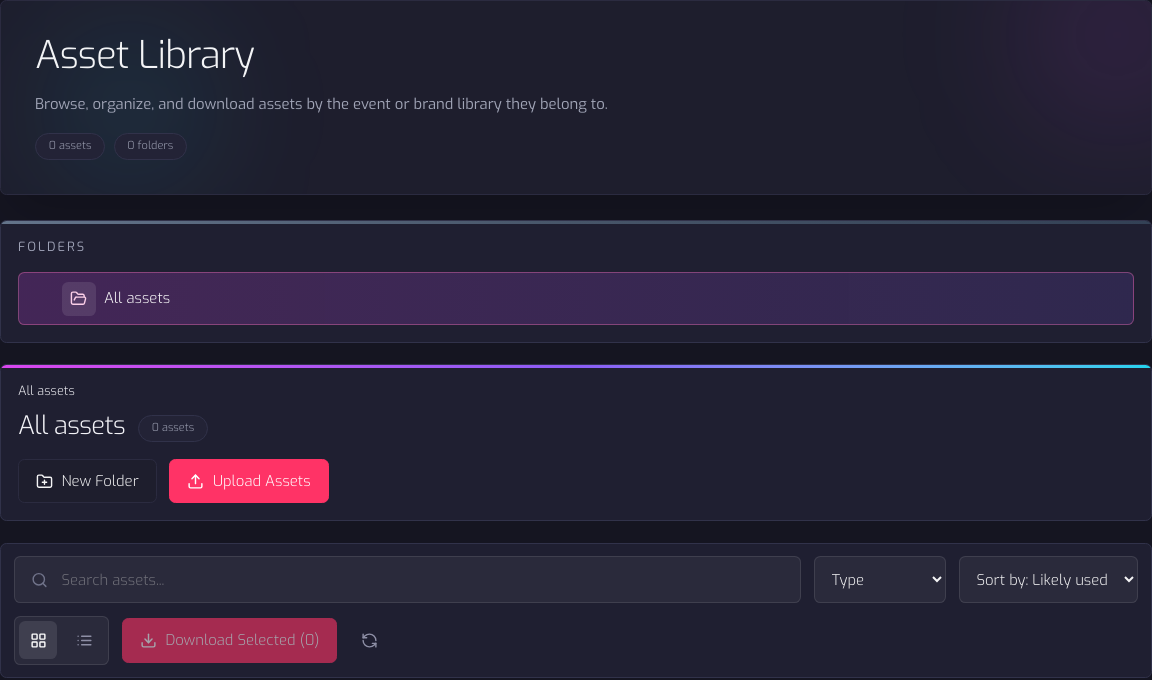
Test case: AssetLibraryView › creates folders from the asset explorer
Click the button "New Folder" at [87, 481], box [18, 459, 157, 504]
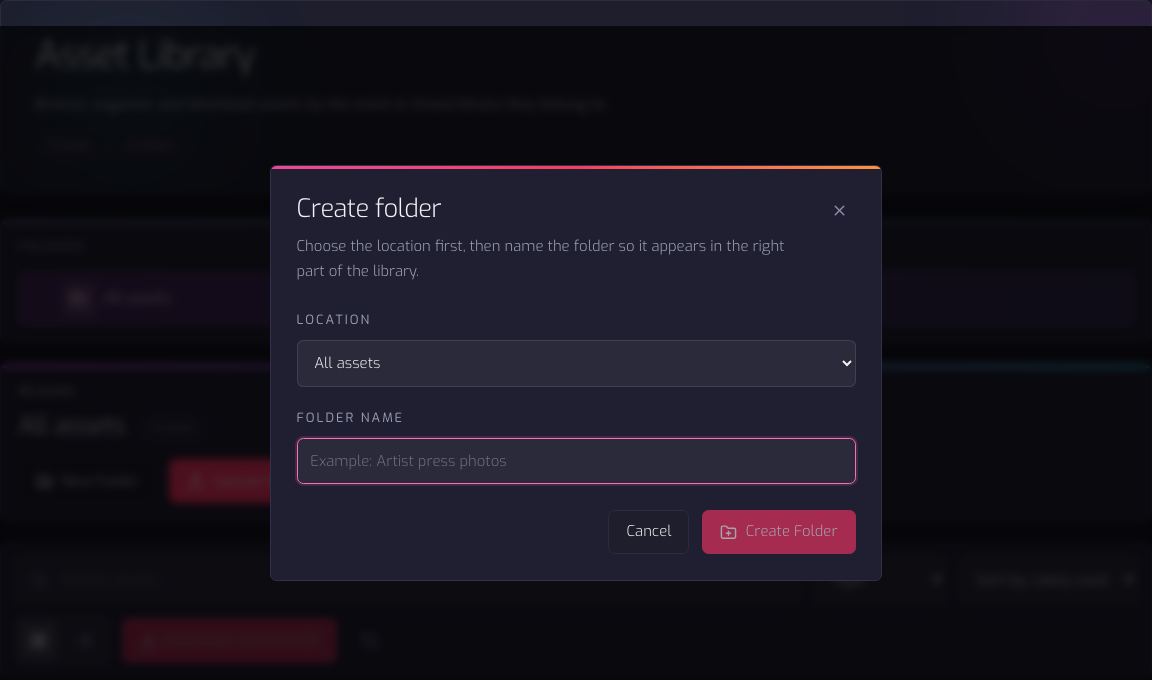
Type "Artist Photos" into the field labelled "Folder name" at [576, 461], box [296, 438, 856, 484]
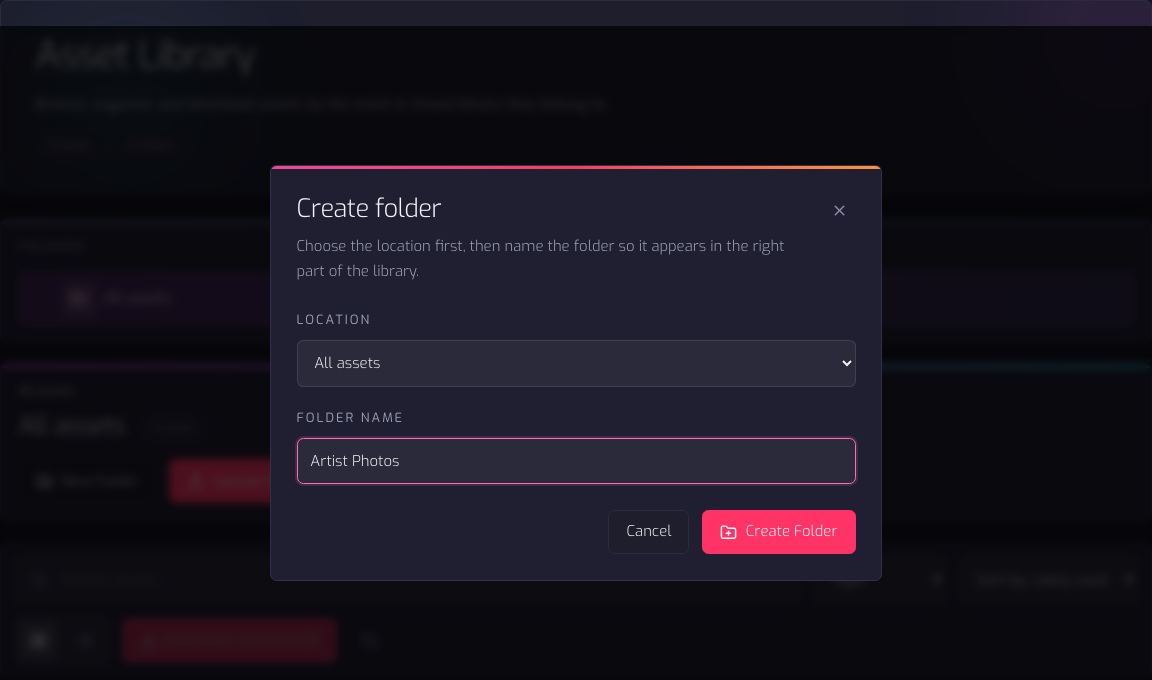
Click the button "Create Folder" at [779, 532], box [702, 510, 856, 554]
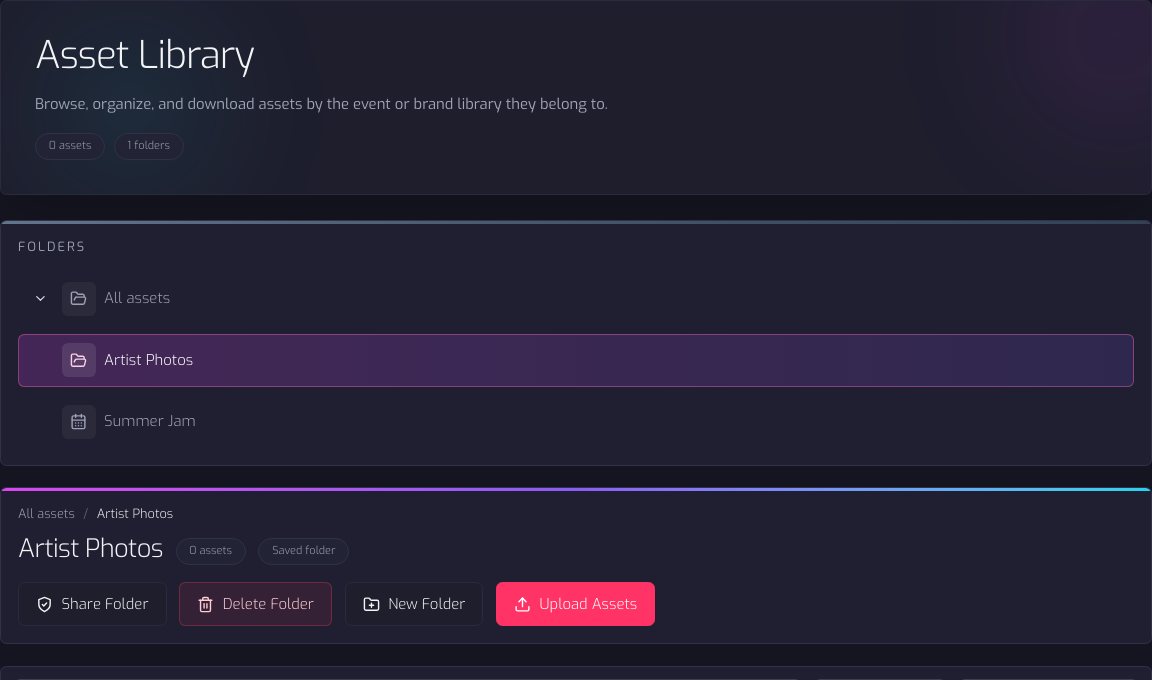
Expected: the 1st button "Artist Photos" is shown, [104, 350, 1124, 371]
